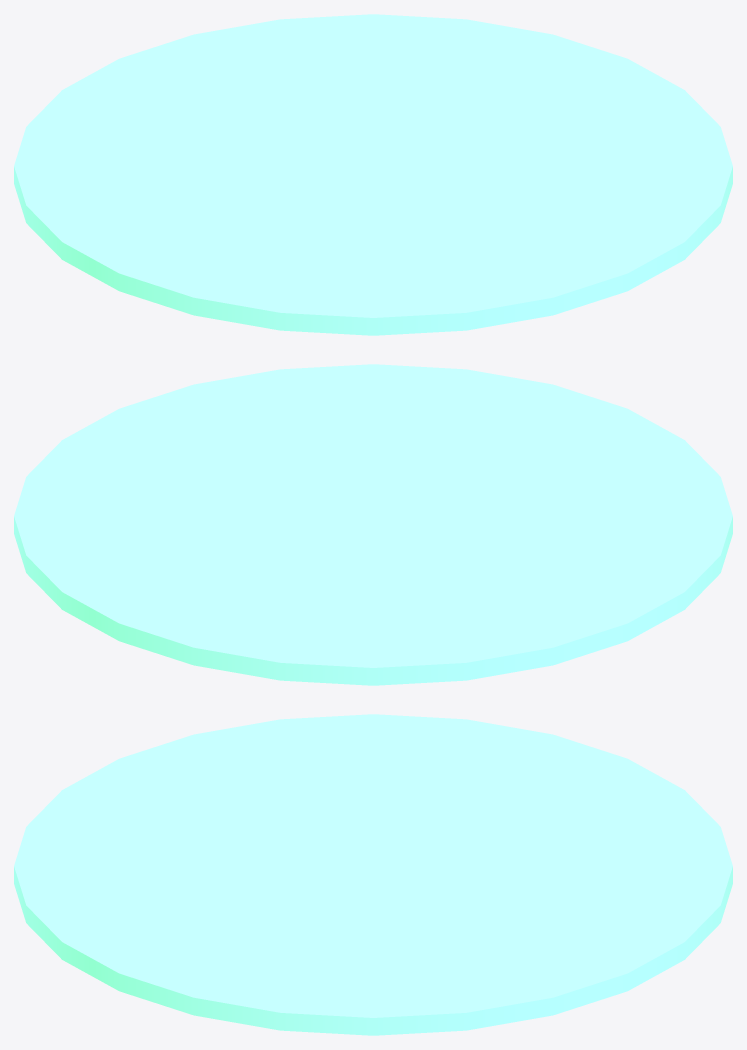
File: gs_ectoplasm.gltf
The picture shows the model from 3 angles, top to bottom: view 1: azimuth 30°, elevation 25°; view 2: azimuth 150°, elevation 25°; view 3: azimuth 270°, elevation 25°; orthographic projection.
Visible parts, largest first — view 1: gs_ectoplasm; view 2: gs_ectoplasm; view 3: gs_ectoplasm.
Boxes of the visible parts, box(x1,y1,x2,y2) form: gs_ectoplasm: box(14, 14, 732, 335); gs_ectoplasm: box(14, 364, 732, 685); gs_ectoplasm: box(14, 714, 732, 1035).
Bounding box in the file's own units: 1.1 × 0.03 × 1.1.
